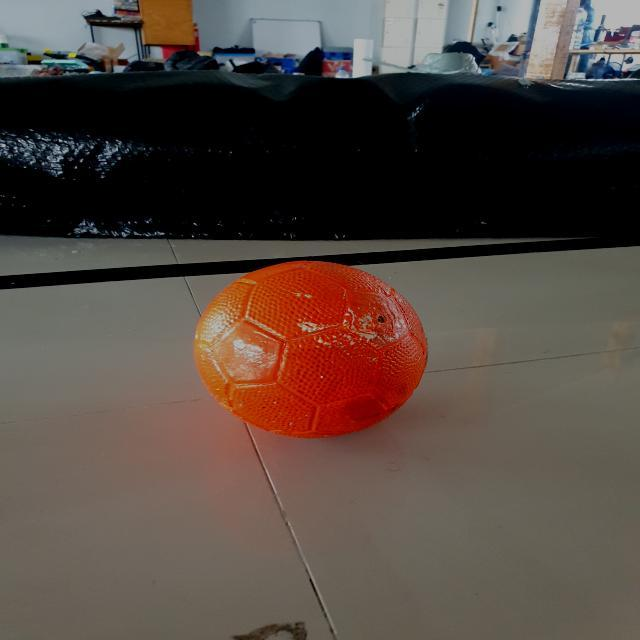bola: (188, 258, 445, 453)
